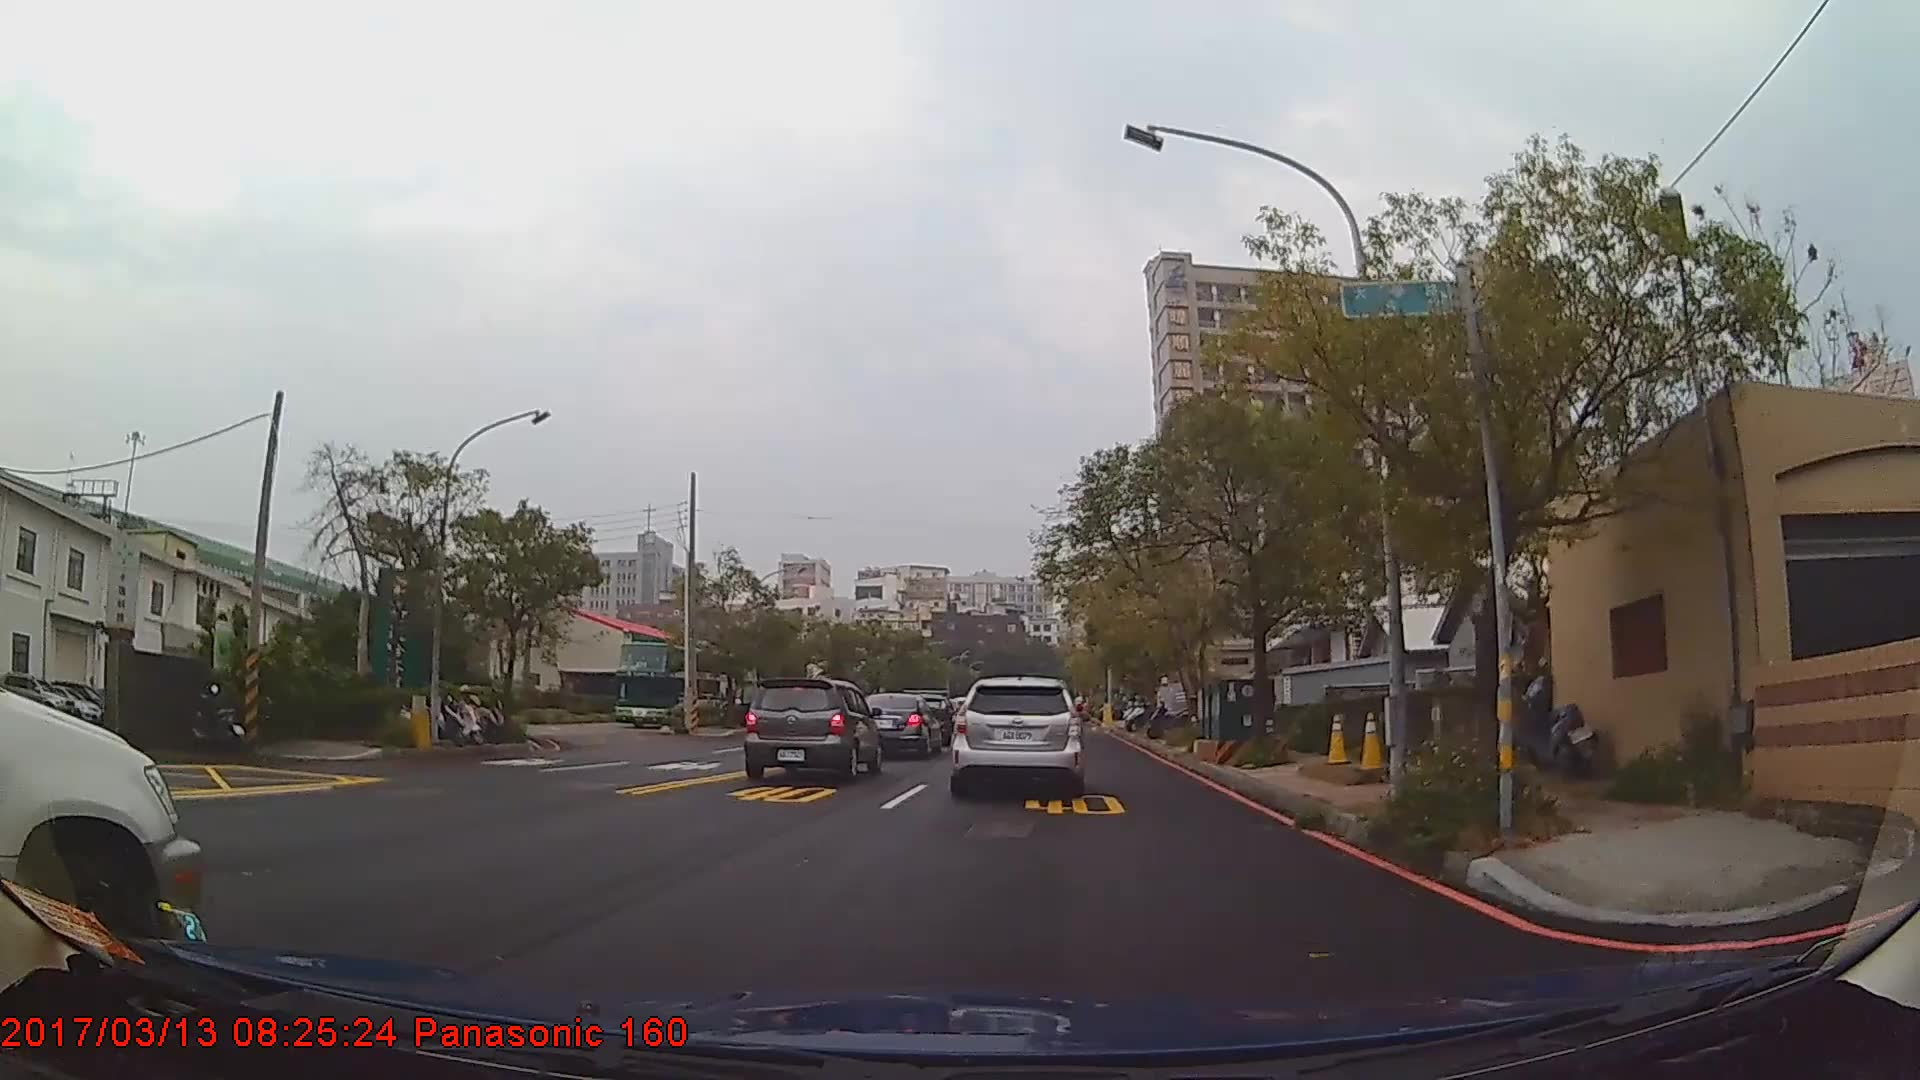vehicle: (1, 688, 214, 1004), (948, 675, 1083, 794), (744, 675, 889, 781), (611, 640, 740, 731), (855, 691, 939, 756)
